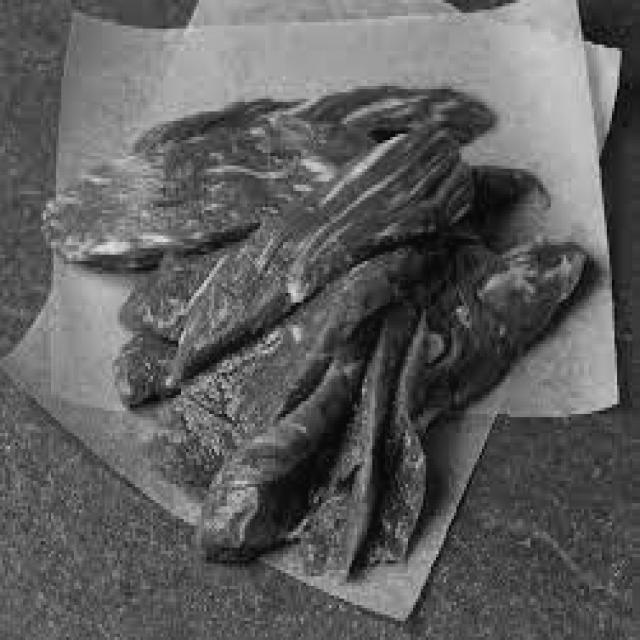thit mieng: (36, 89, 586, 570)
